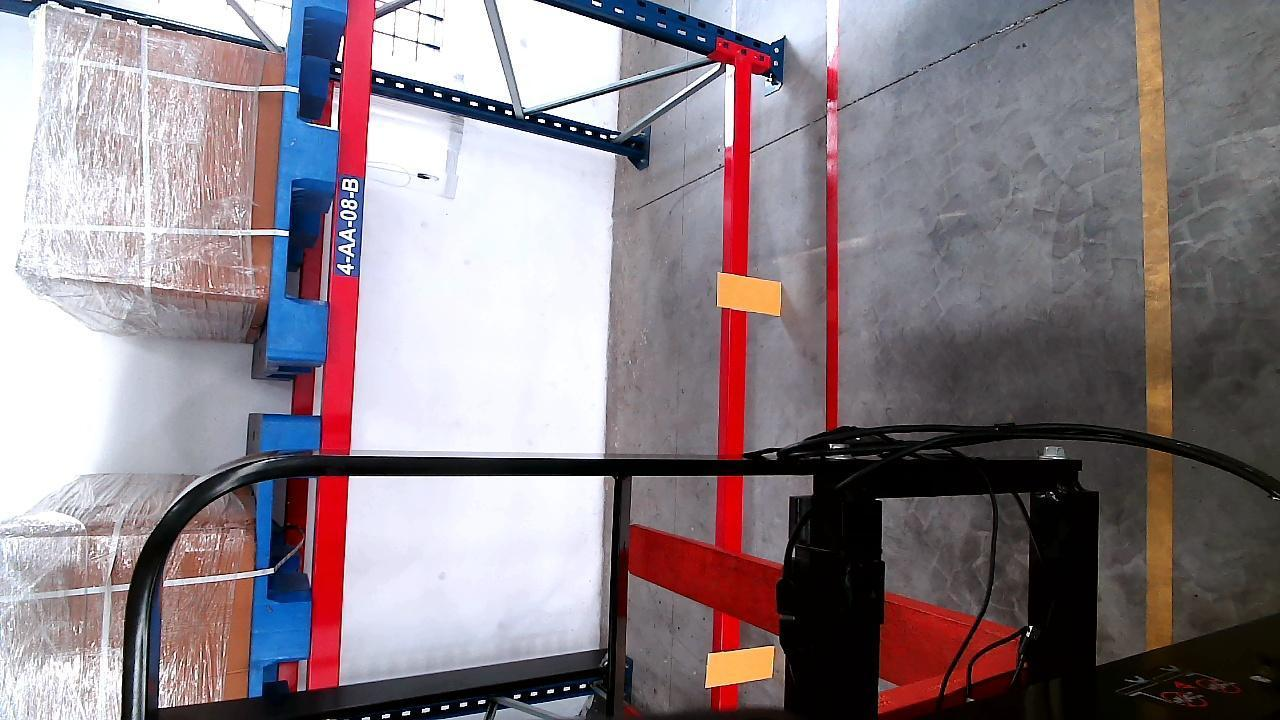h_rack: (306, 1, 375, 688), (711, 57, 756, 718)
orange_strip: (707, 644, 778, 687), (721, 273, 783, 313)
small_pallet: (262, 3, 342, 358), (250, 416, 320, 692)
yellow_line: (1133, 0, 1181, 655)
